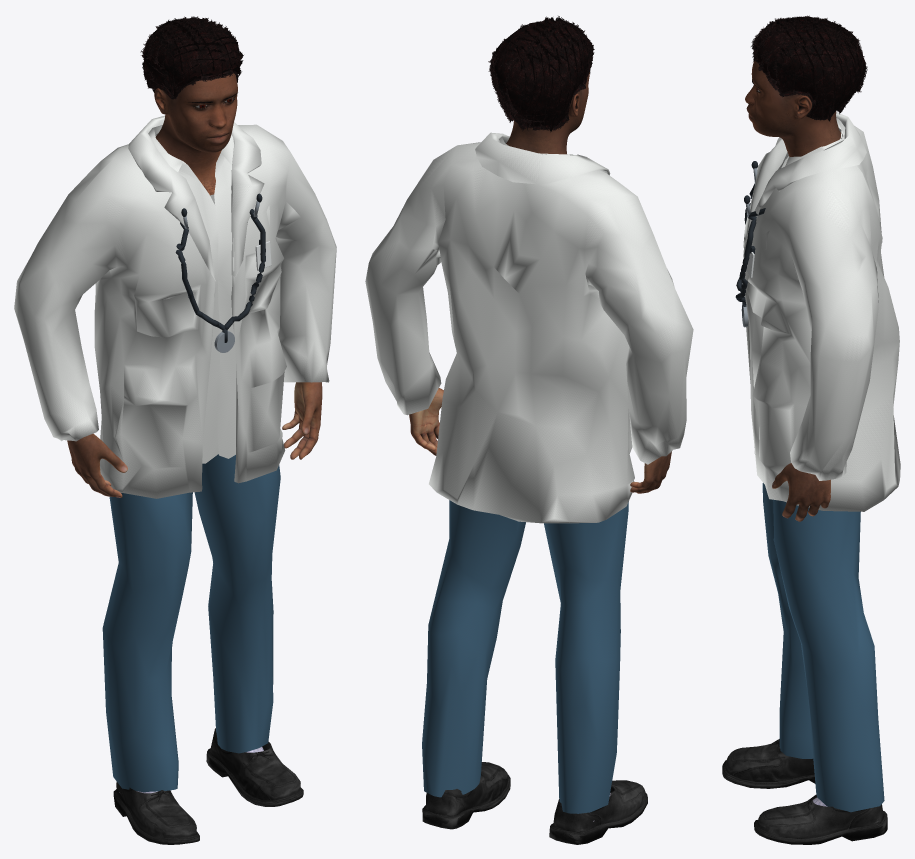
File: doctor.glb
3 views of the same model, side by side, from view 1: azimuth 30°, elevation 25°; view 2: azimuth 150°, elevation 25°; view 3: azimuth 270°, elevation 25° (orthographic).
Parts seen in each view (by area): view 1: male_casualsuit05, Jordan | anatomical body, shoes04, afro01, Doctor | fitted stethoscope tubing.001, Doctor | fitted stethoscope tubing; view 2: male_casualsuit05, afro01, shoes04, Jordan | anatomical body; view 3: male_casualsuit05, afro01, shoes04, Jordan | anatomical body, Doctor | fitted stethoscope tubing.001.
Part boxes in pixels (x1=…): male_casualsuit05: x1=14, y1=115, x2=336, y2=792; Jordan | anatomical body: x1=67, y1=73, x2=322, y2=497; shoes04: x1=113, y1=728, x2=303, y2=844; afro01: x1=140, y1=16, x2=243, y2=99; Doctor | fitted stethoscope tubing.001: x1=224, y1=215, x2=265, y2=329; Doctor | fitted stethoscope tubing: x1=175, y1=228, x2=224, y2=330; male_casualsuit05: x1=365, y1=132, x2=693, y2=813; afro01: x1=488, y1=16, x2=594, y2=132; shoes04: x1=422, y1=762, x2=647, y2=844; Jordan | anatomical body: x1=409, y1=72, x2=671, y2=493; male_casualsuit05: x1=743, y1=112, x2=900, y2=812; afro01: x1=751, y1=15, x2=867, y2=121; shoes04: x1=722, y1=739, x2=887, y2=844; Jordan | anatomical body: x1=745, y1=59, x2=841, y2=521; Doctor | fitted stethoscope tubing.001: x1=735, y1=216, x2=756, y2=304.
Bounding box in the file's own units: 0.765 × 1.85 × 0.3831.
13 materials, 13 textured.
